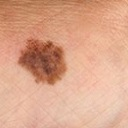Melanoma: (20, 33, 65, 84)
